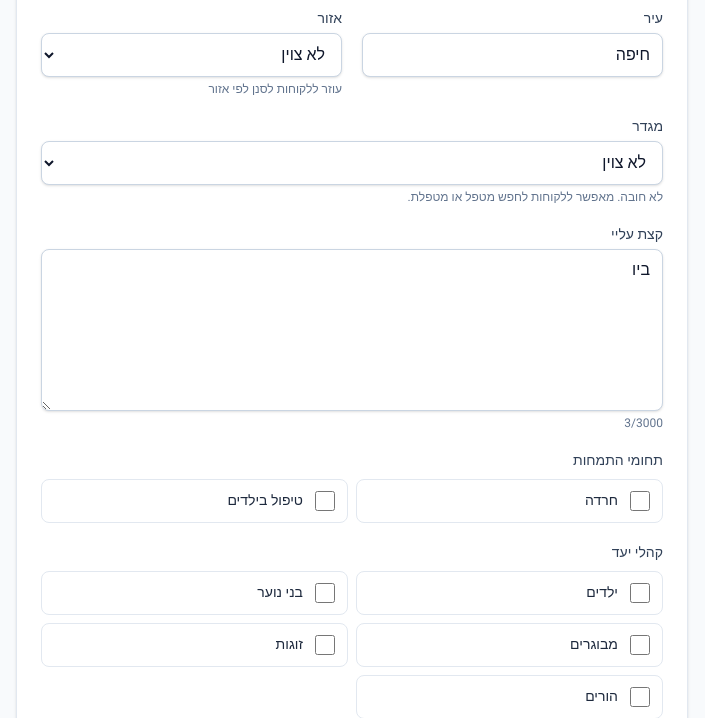
Test: Dashboard: the profile form › saves edits, including the fields the public search filters on
(page scrolled)
Replace the text in the text box labelled "קצת עליי" with "ביו חדש" at (352, 330), box [41,249,663,411]
Select "מטפלת (אישה)" in the dropdown labelled "מגדר" at (352, 163), box [41,141,663,185]
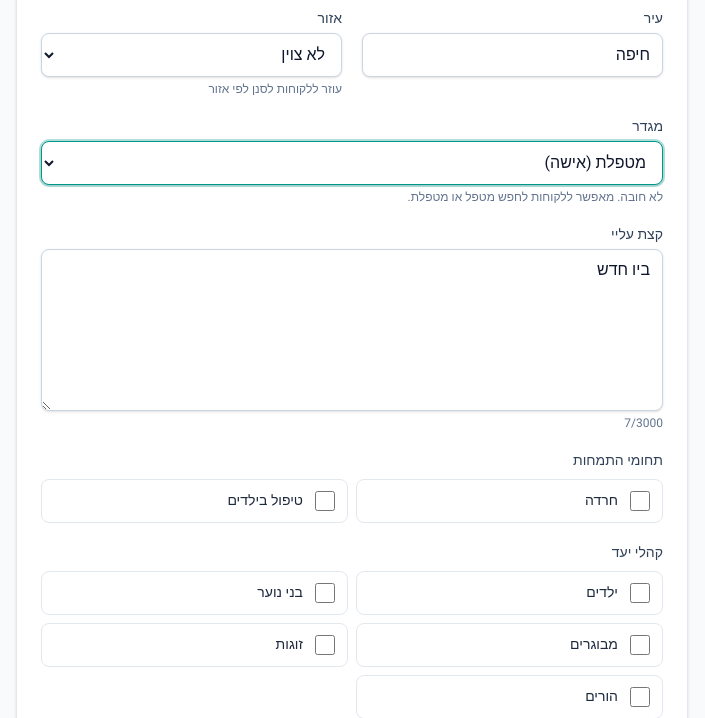
Select "מרכז" in the dropdown labelled "אזור" at (192, 55), box [41,33,342,77]
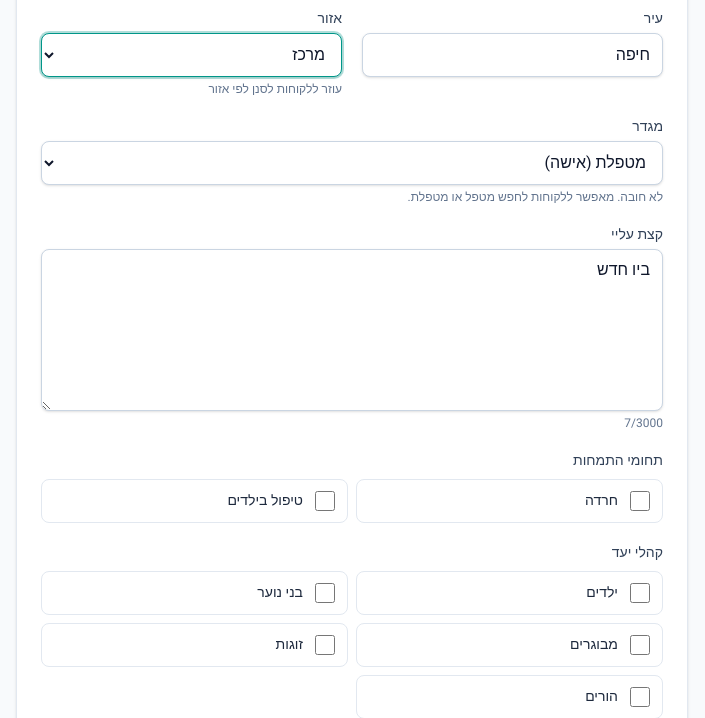
Click the checkbox labelled "ילדים" at (640, 593), box [630,583,650,603]
(page scrolled)
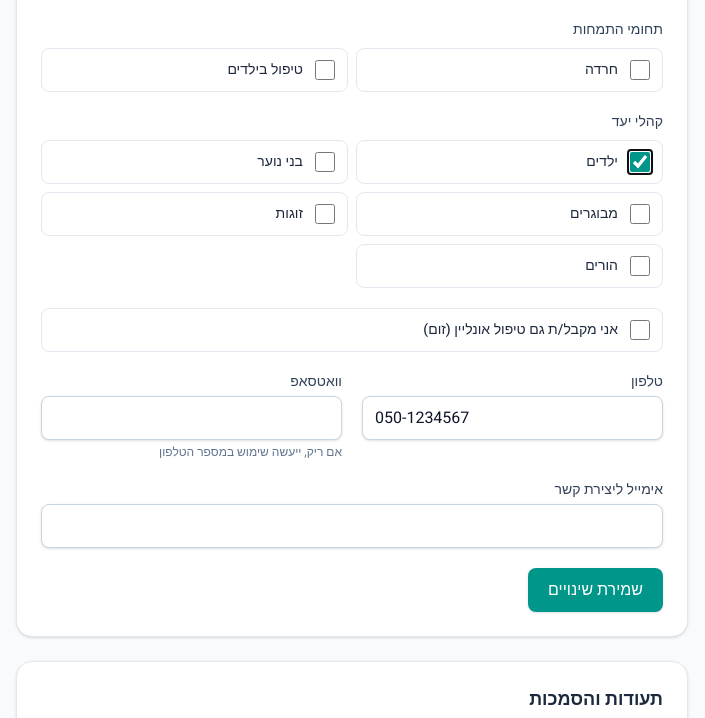
Click the checkbox labelled "אני מקבל/ת גם טיפול אונליין (זום)" at (640, 330), box [630,320,650,340]
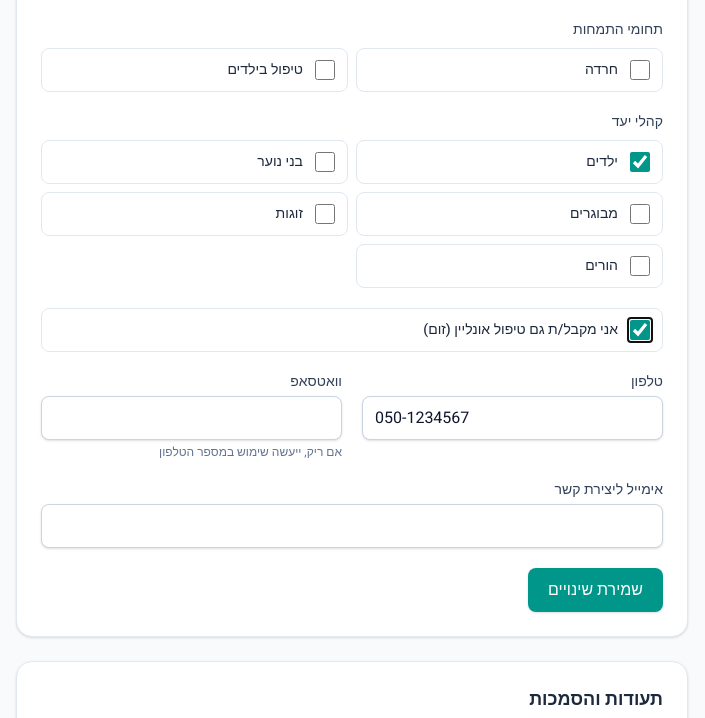
Click the checkbox labelled "חרדה" at (640, 70), box [630,60,650,80]
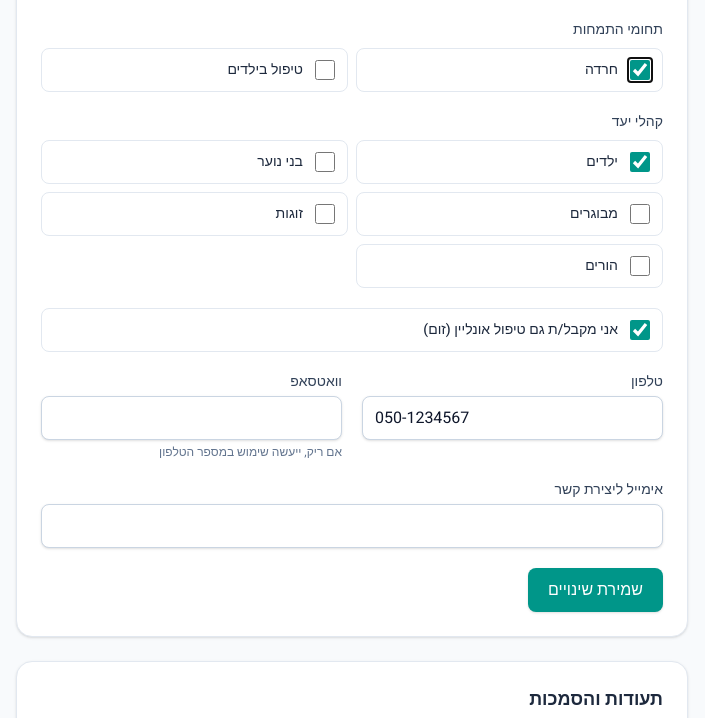
Click the button "שמירת שינויים" at (596, 590), box [528,568,663,612]
(page scrolled)
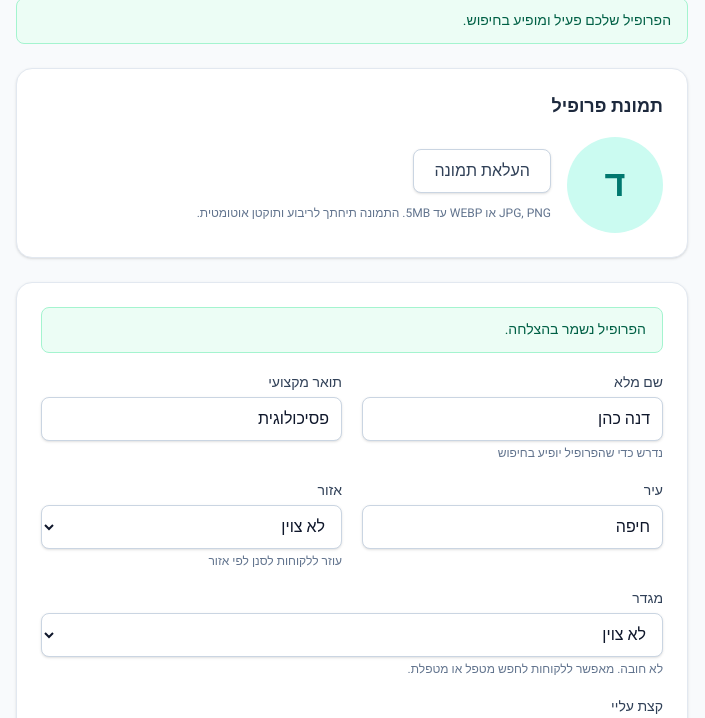
Check: the text "הפרופיל נשמר בהצלחה." is shown, box [41,307,663,353]
